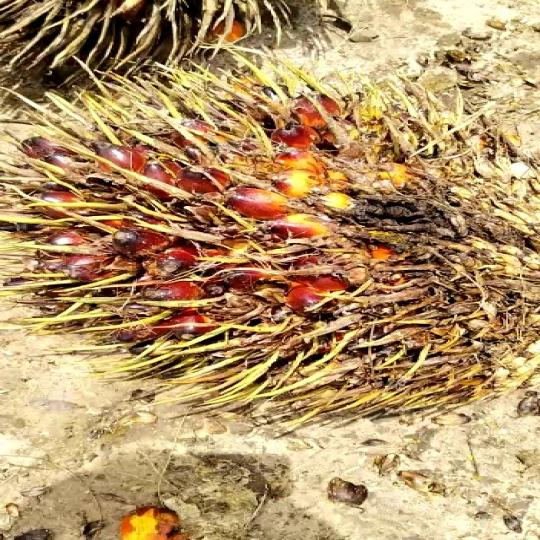masak: (0, 73, 540, 434)
